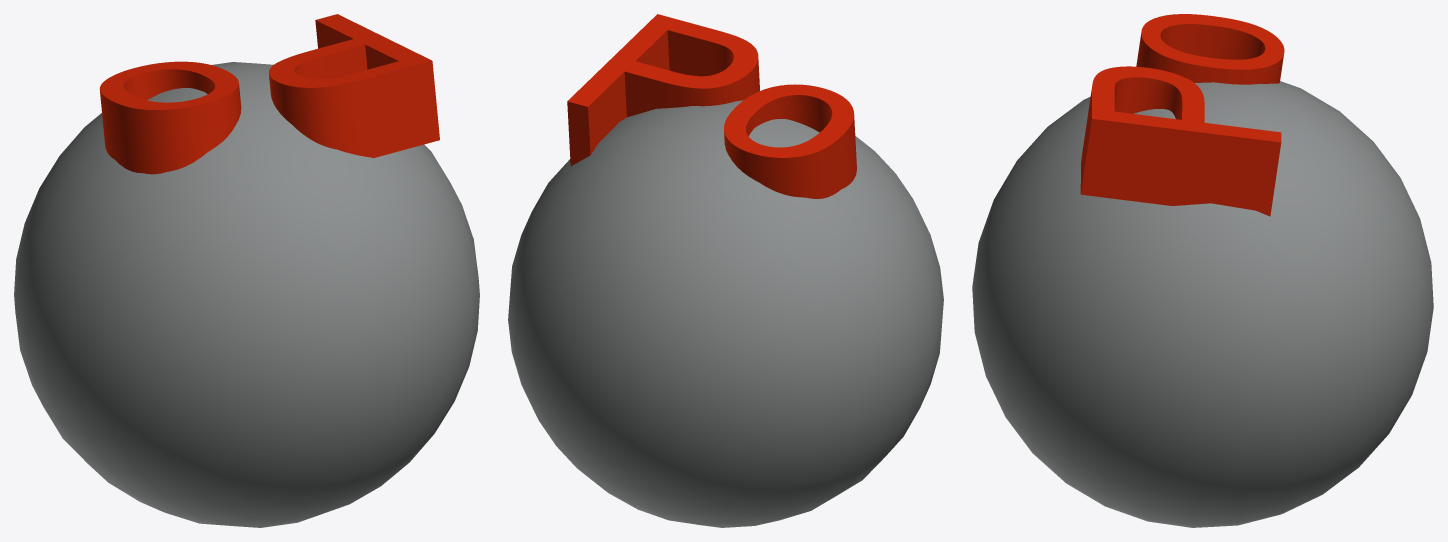
The picture shows the model from 3 angles, left to right: view 1: azimuth 30°, elevation 25°; view 2: azimuth 150°, elevation 25°; view 3: azimuth 270°, elevation 25°; orthographic projection. The views are drawn at different scales.
Visible parts, largest first — view 1: Po; view 2: Po; view 3: Po.
Part boxes in pixels (box(x1,y1,x2,y2)): Po: box(14, 14, 479, 527); Po: box(508, 14, 943, 527); Po: box(972, 14, 1433, 527).
Size of the model in its own units: 38.75 by 41.66 by 38.71.
